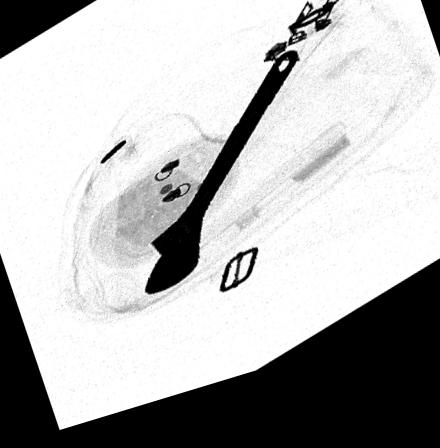Wrench: (140, 64, 298, 304)
